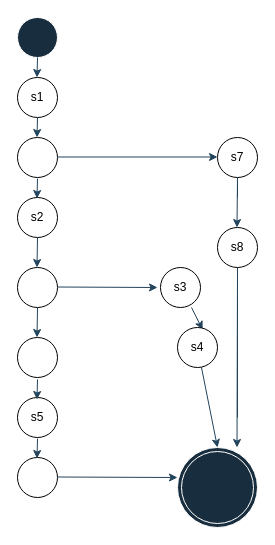
The diagram is 275 pixels wide and 545 high, and some of its shapes have lost their labels. Here are the shapes that lost their labels. From the top down, the centre of each, then its label:
At pixel 37 157: "c1".
At pixel 37 287: "c2".
At pixel 37 357: "c3".
At pixel 37 477: "s6".
